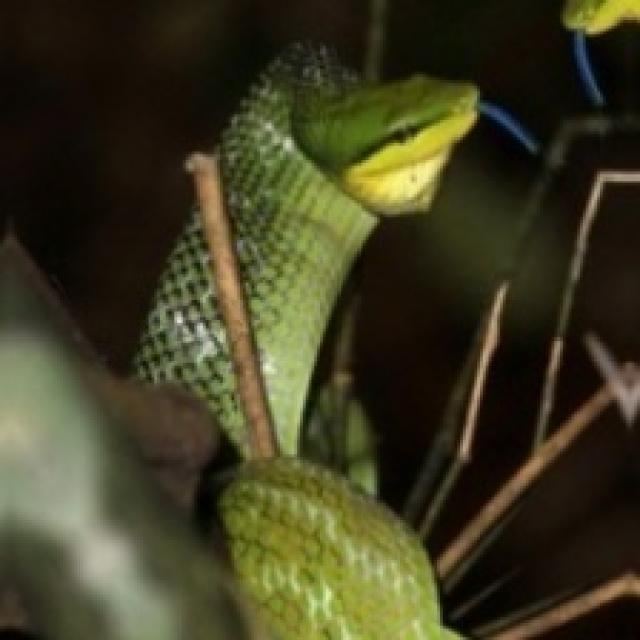red-tailed green ratsnake: (137, 46, 477, 637)
